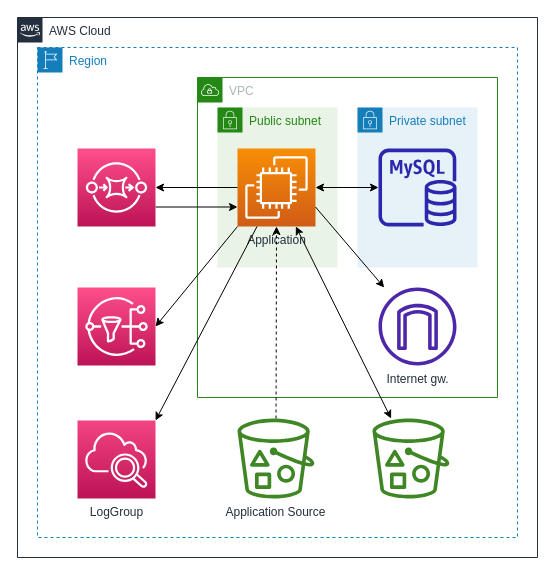
Some shapes in this 555 by 575 pixel diagram are drawn without their labels. The shapes that lost their labels are listed below. From the top down, each one's centre as x and y in pixels, then its label:
At point (116, 187): "Image Event Queue".
At point (417, 187): "Image Data DB".
At point (116, 326): "Image Event Notifications".
At point (410, 458): "Image File Storage".
